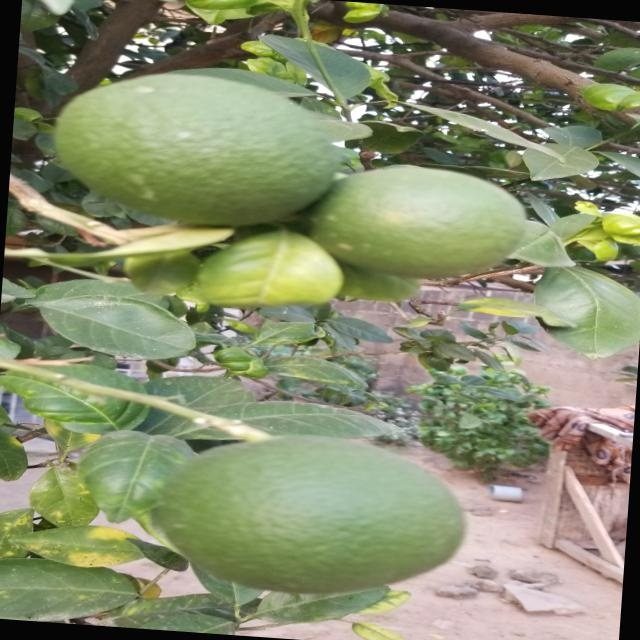agrume: (144, 424, 492, 608), (39, 55, 357, 241), (303, 153, 537, 290)
